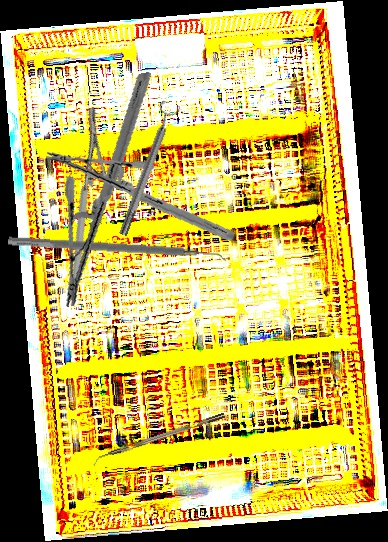Chopper: (90, 412, 228, 468)
Fixation Ring: (111, 99, 183, 239)
Needle Holder: (23, 71, 192, 308), (14, 105, 151, 294), (45, 134, 235, 257)
Spatula Surgical: (7, 236, 227, 267)
